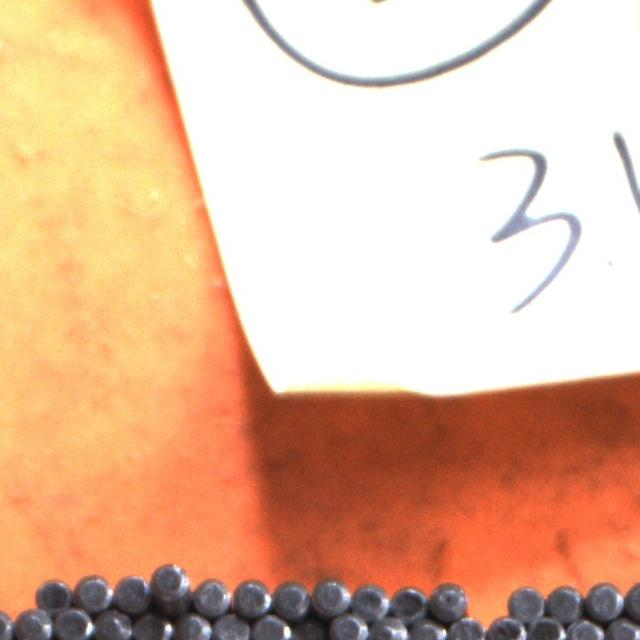tool: (149, 560, 189, 602), (584, 580, 624, 620), (428, 581, 468, 620), (350, 581, 389, 620), (311, 574, 349, 614), (273, 578, 311, 617), (233, 576, 272, 614), (193, 575, 231, 614), (506, 583, 544, 622), (388, 582, 426, 621), (73, 571, 111, 609), (113, 572, 150, 611), (545, 583, 582, 621), (54, 604, 92, 640), (32, 577, 70, 613), (13, 606, 51, 640), (94, 608, 133, 640), (328, 610, 367, 640), (212, 610, 250, 640), (134, 610, 172, 640), (486, 612, 526, 640), (173, 611, 211, 640), (250, 613, 290, 640), (370, 613, 410, 640), (447, 614, 485, 640), (528, 614, 566, 640), (566, 615, 604, 640), (408, 616, 446, 640), (604, 615, 640, 640), (289, 618, 327, 640)
